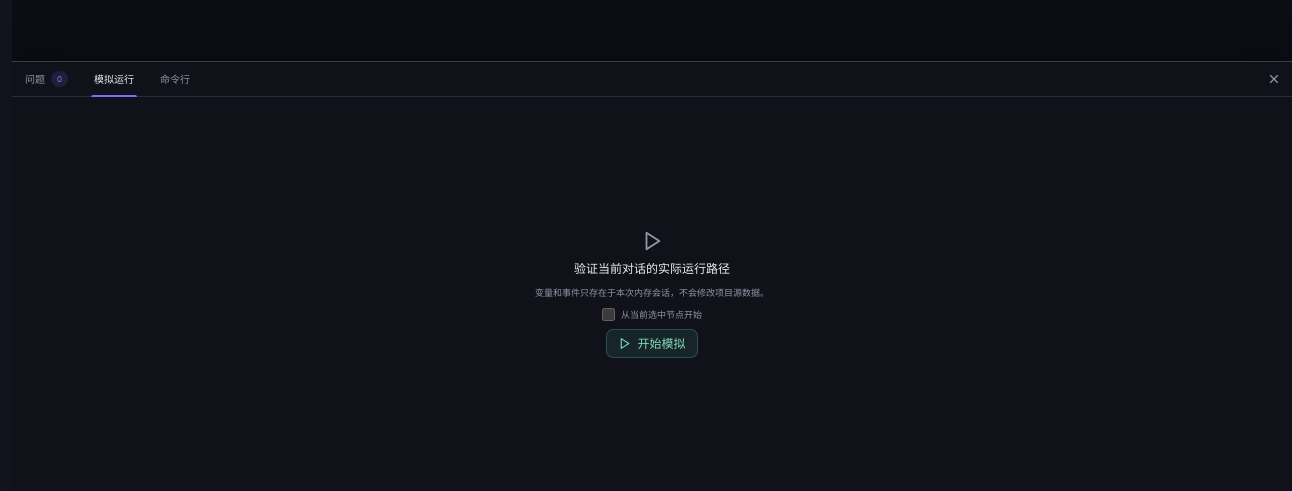
Scenario: simulator only presents choices whose conditions currently pass
The width and height of the screenshot is (1292, 491).
Click the button "开始模拟" at {"x": 652, "y": 344}, box [606, 329, 698, 358]
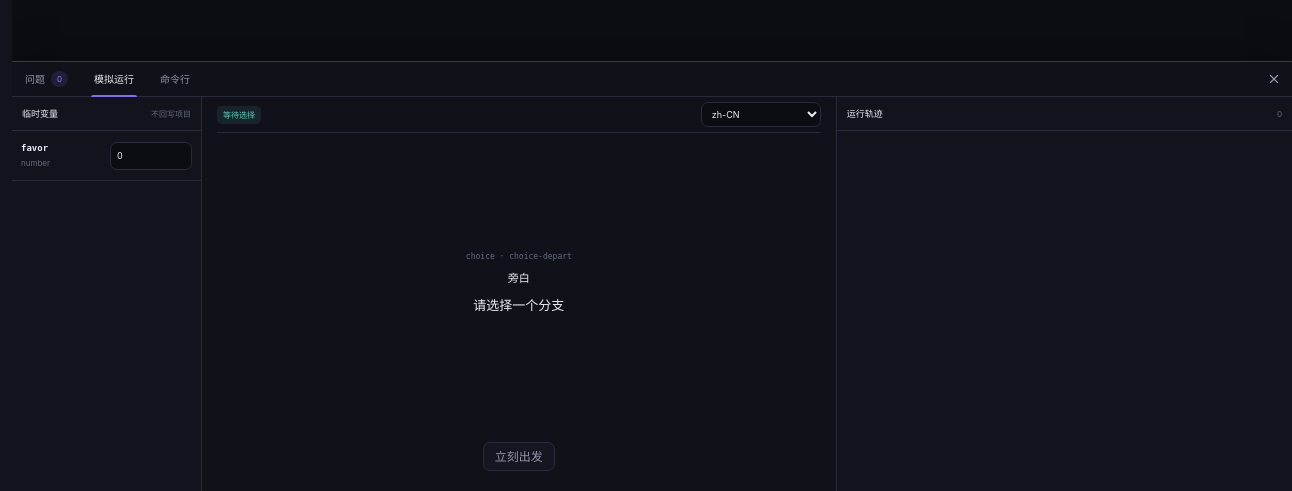
Result: the button "立刻出发" is shown at [483, 442, 555, 471]
